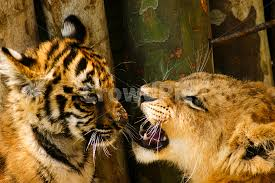lion: (130, 61, 275, 183)
tiger: (1, 11, 126, 183)
